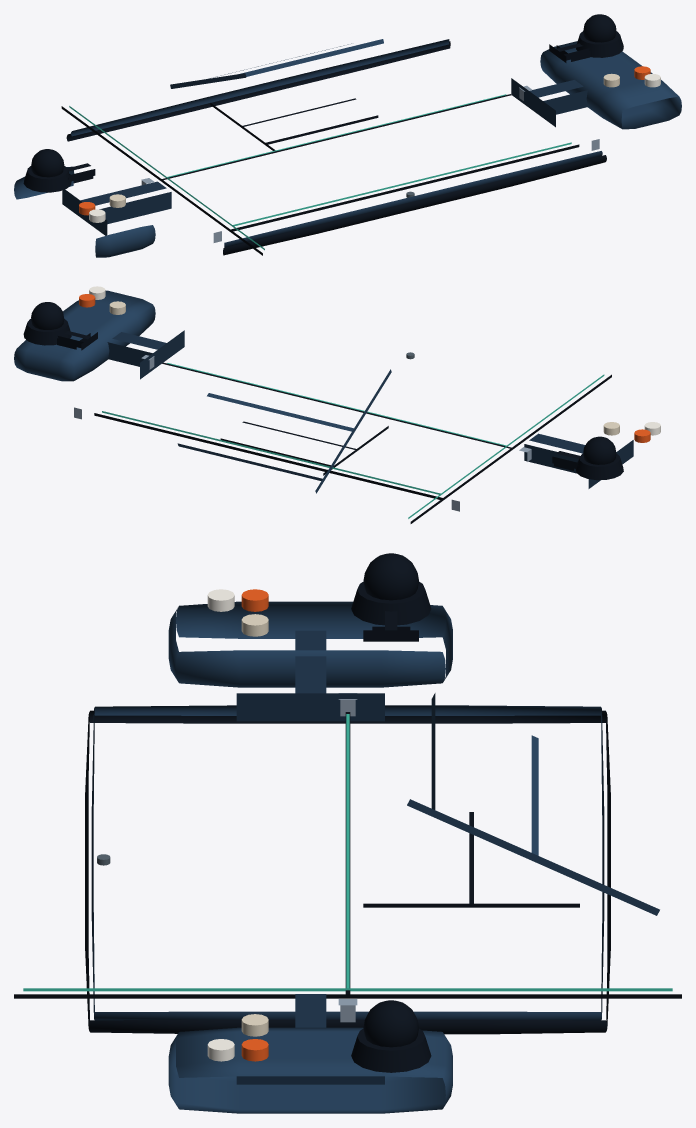
The model's file is model-hybrid-05.glb.
3 views of the same model, one above another, from view 1: azimuth 30°, elevation 25°; view 2: azimuth 150°, elevation 25°; view 3: azimuth 270°, elevation 25° (orthographic). The views are drawn at different scales.
Parts seen in each view (by area): view 1: 手柄右外壳, 平板本体, 平板边框, 平板屏幕, 手柄左连接臂, 手柄右连接臂, 平板屏幕辉光, 手柄左外壳, 支撑脚, 手柄左摇杆座, 后盖散热, 手柄右摇杆帽 (+3 smaller); view 2: 手柄右外壳, 平板屏幕, 手柄右连接臂, 平板屏幕辉光, 支撑脚, 手柄左连接臂, 手柄左摇杆座, 手柄左摇杆帽, 手柄右摇杆帽, 手柄右摇杆座, 后盖散热, 手柄右十字键; view 3: 手柄右外壳, 手柄左外壳, 平板本体, 平板边框, 手柄左连接臂, 平板屏幕, 平板屏幕辉光, 支撑脚, 手柄右连接臂, 手柄右摇杆座, 手柄左摇杆帽, 手柄右摇杆帽 (+3 smaller).
Boxes of the visible parts, x1,y1,x2,y2 form: 手柄右外壳: (540, 41, 681, 129); 平板本体: (66, 41, 606, 255); 平板边框: (71, 39, 602, 247); 平板屏幕: (61, 94, 579, 255); 手柄左连接臂: (62, 181, 171, 235); 手柄右连接臂: (511, 78, 588, 127); 平板屏幕辉光: (69, 94, 571, 250); 手柄左外壳: (14, 166, 155, 257); 支撑脚: (170, 39, 383, 88); 手柄左摇杆座: (23, 166, 71, 192); 后盖散热: (210, 98, 378, 150); 手柄右摇杆帽: (583, 14, 616, 42); 手柄右外壳: (14, 290, 155, 381); 平板屏幕: (94, 362, 611, 523); 手柄右连接臂: (107, 330, 184, 379); 平板屏幕辉光: (102, 363, 604, 518); 支撑脚: (177, 369, 391, 493); 手柄左连接臂: (524, 433, 633, 488); 手柄左摇杆座: (576, 453, 623, 480); 手柄左摇杆帽: (583, 436, 616, 464); 手柄右摇杆帽: (31, 302, 64, 329); 手柄右摇杆座: (23, 318, 71, 345); 后盖散热: (220, 421, 388, 475); 手柄右十字键: (57, 331, 97, 350); 手柄右外壳: (168, 1027, 452, 1113); 手柄左外壳: (168, 601, 452, 687); 平板本体: (85, 710, 610, 1034); 平板边框: (91, 705, 604, 1020); 手柄左连接臂: (236, 630, 384, 721); 平板屏幕: (14, 712, 681, 998); 平板屏幕辉光: (23, 714, 672, 991); 支撑脚: (407, 693, 659, 915); 手柄右连接臂: (236, 994, 384, 1084); 手柄右摇杆座: (351, 1028, 431, 1072); 手柄左摇杆帽: (363, 553, 418, 600); 手柄右摇杆帽: (363, 1000, 418, 1047).
Size of the model in its own units: 0.368 by 0.0509 by 0.216.
